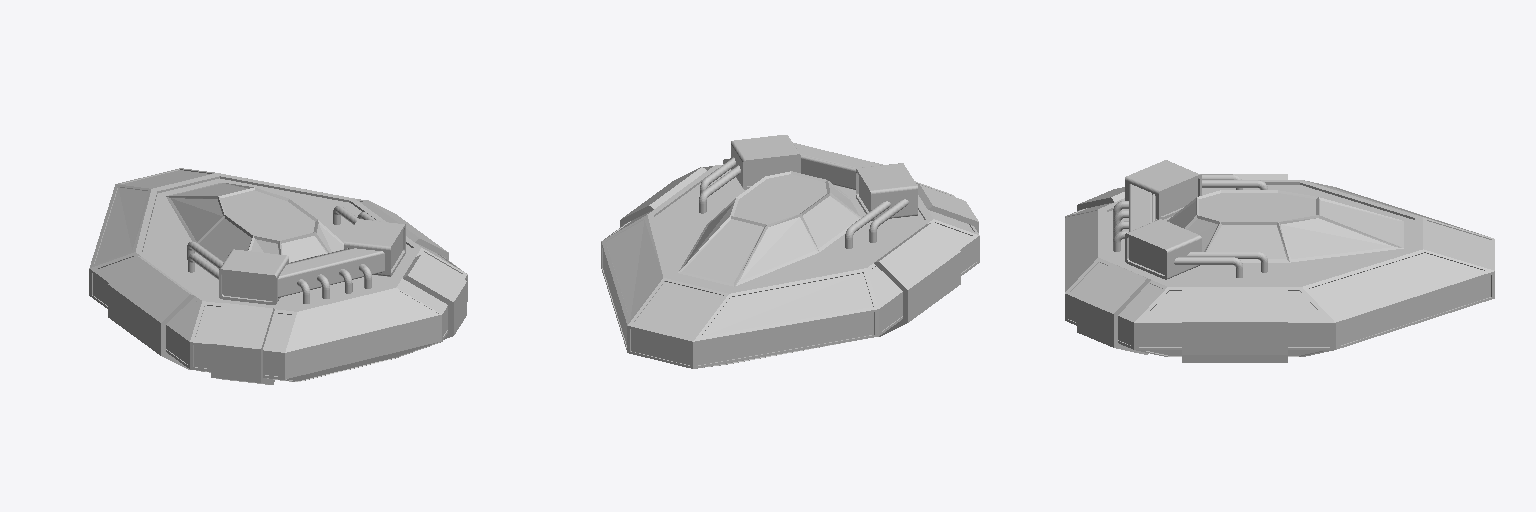
The model's file is ship_final_1.obj.
3 renders of one model, left to right at view 1: azimuth 30°, elevation 25°; view 2: azimuth 150°, elevation 25°; view 3: azimuth 270°, elevation 25°, orthographic.
Size of the model in its own units: 0.3065 by 0.1039 by 0.397.